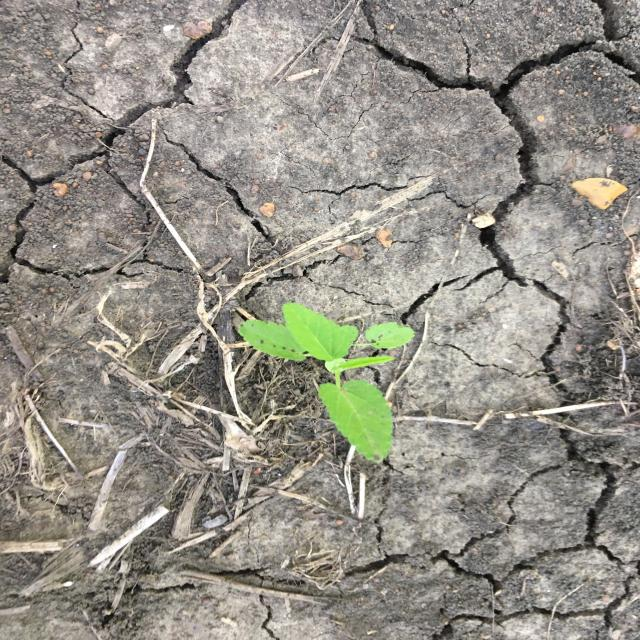PricklySida: (235, 300, 418, 466)
